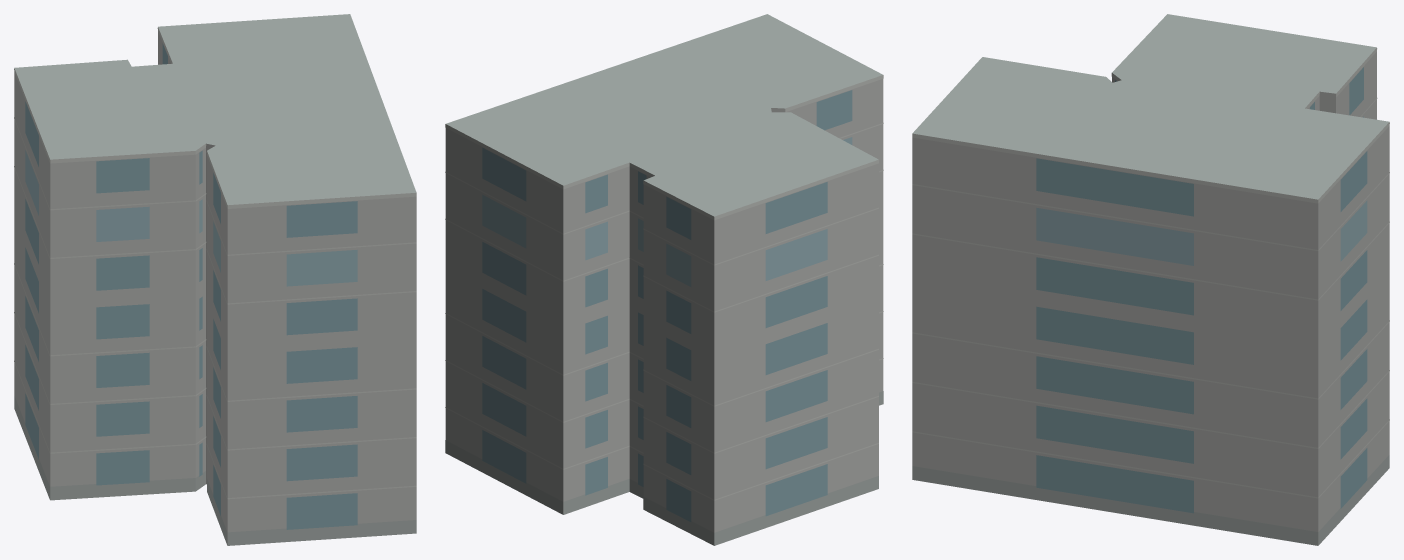
The model's file is survey-upis-32891397.glb.
The picture shows the model from 3 angles, left to right: view 1: azimuth 30°, elevation 25°; view 2: azimuth 150°, elevation 25°; view 3: azimuth 270°, elevation 25°; orthographic projection. The views are drawn at different scales.
Visible parts, largest first — view 1: survey-upis-32891397.tmp; view 2: survey-upis-32891397.tmp; view 3: survey-upis-32891397.tmp.
Boxes of the visible parts, <box> form: survey-upis-32891397.tmp: <box>14,14,416,545</box>; survey-upis-32891397.tmp: <box>445,14,883,545</box>; survey-upis-32891397.tmp: <box>912,14,1389,545</box>.
Size of the model in its own units: 24.57 by 21.35 by 26.7.
